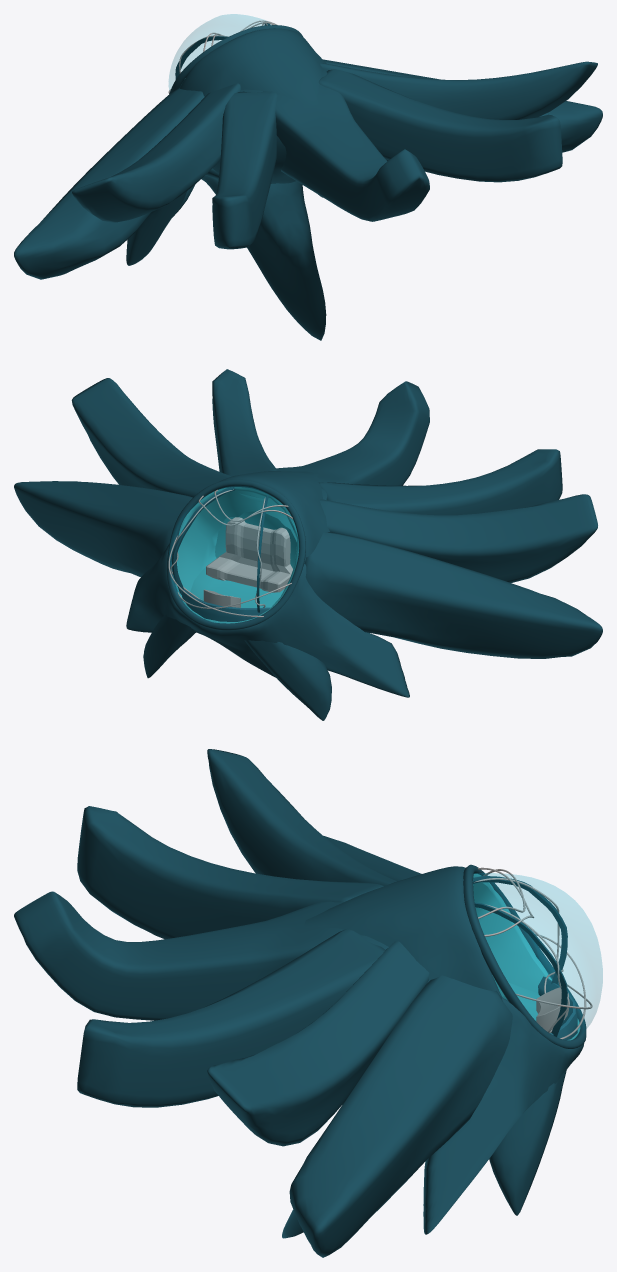
The model's file is spaceship final model.fbx.
3 views of the same model, one above another, from view 1: azimuth 30°, elevation 25°; view 2: azimuth 150°, elevation 25°; view 3: azimuth 270°, elevation 25° (orthographic). The views are drawn at different scales.
Parts seen in each view (by area): view 1: Wing_5_1, Wing_4_1, wing_back1, Wing_3_1, front_piece3, Back_case1_1, cabin1, cabin_rim; view 2: Wing_3_1, Wing_4_1, Wing_5_1, front_piece3, wing_back1, Wing_front_2, cockpit_inside, chair_blockout, cabin_rim, Back_case1_1, cockpit_ground, cockpit_wall (+2 smaller); view 3: Wing_5_1, Wing_3_1, Wing_4_1, wing_back1, Back_case1_1, front_piece3, cabin1, Wing_front_2, cockpit_inside, cabin_rim, beam_right, beam_left (+2 smaller).
Part boxes in pixels (x1,y1,x2,y2): Wing_5_1: (212,69,562,249); Wing_4_1: (72,61,597,222); wing_back1: (239,69,429,221); Wing_3_1: (14,59,602,279); front_piece3: (126,159,388,340); Back_case1_1: (180,28,326,183); cabin1: (169,14,270,90); cabin_rim: (169,25,302,94); Wing_3_1: (14,481,602,658); Wing_4_1: (71,378,597,582); Wing_5_1: (212,369,562,515); front_piece3: (126,544,409,697); wing_back1: (276,381,429,499); Wing_front_2: (143,614,331,720); cockpit_inside: (175,487,298,623); chair_blockout: (206,517,292,592); cabin_rim: (166,479,305,630); Back_case1_1: (219,471,329,563); cockpit_ground: (190,567,284,607); cockpit_wall: (215,493,296,568); Wing_5_1: (77,806,385,1107); Wing_3_1: (289,836,512,1257); Wing_4_1: (207,749,429,1146); wing_back1: (14,891,388,1020); Back_case1_1: (304,866,502,997); front_piece3: (282,969,584,1238); cabin1: (476,873,602,1033); Wing_front_2: (489,1070,566,1215); cockpit_inside: (473,873,580,1040); cabin_rim: (463,864,586,1048); beam_right: (474,902,567,1036); beam_left: (472,876,567,984).
Size of the model in its own units: 1659 by 712 by 1051.
